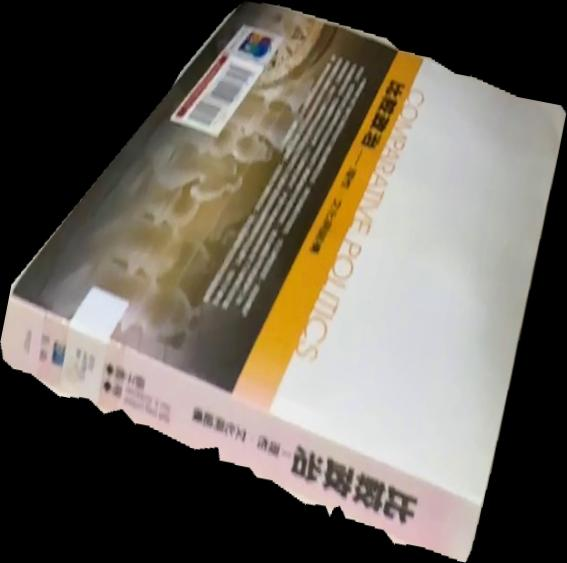flat: (1, 1, 567, 563)
